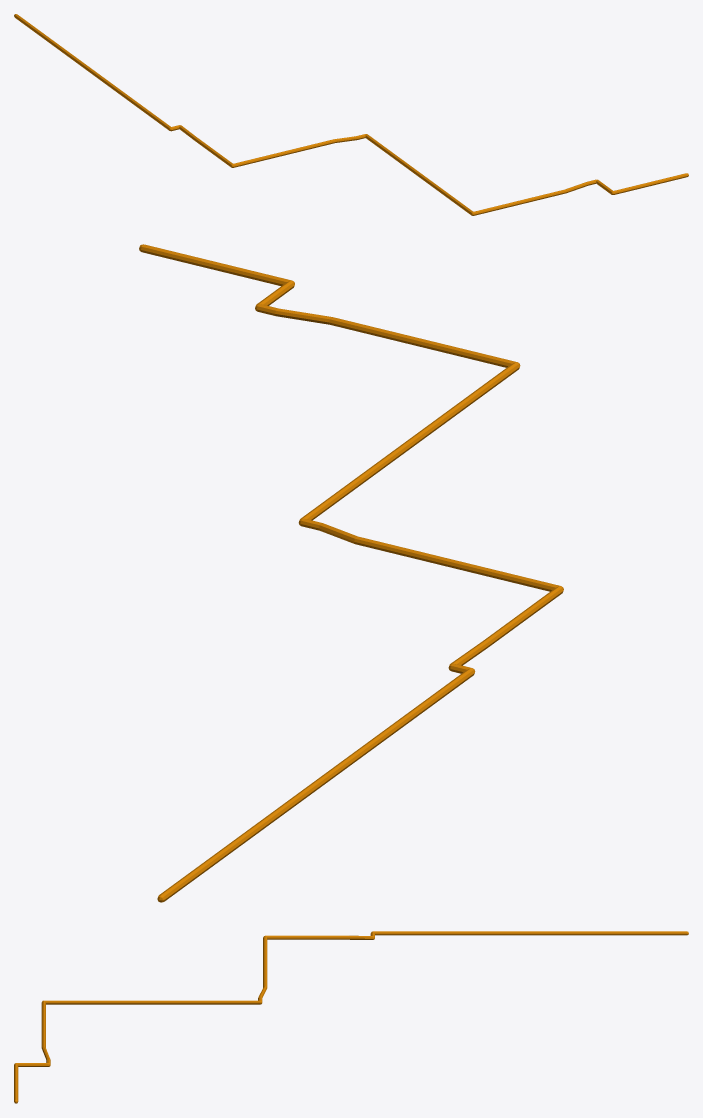
3 views of the same model, one above another, from view 1: azimuth 30°, elevation 25°; view 2: azimuth 150°, elevation 25°; view 3: azimuth 270°, elevation 25° (orthographic). The views are drawn at different scales.
Bounding box in the file's own units: 1859 × 20 × 3119.
